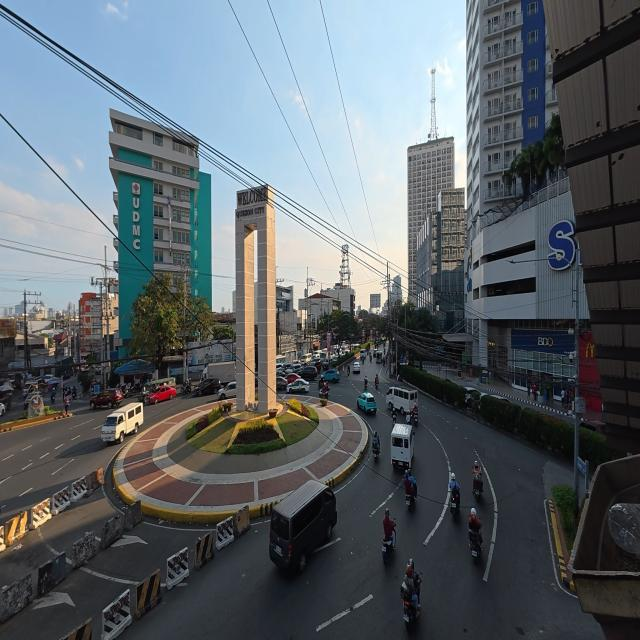Jeepneys: (140, 377, 175, 402)
car: (90, 389, 122, 409), (194, 378, 221, 396), (149, 386, 175, 403), (465, 387, 486, 407), (217, 380, 237, 400), (358, 392, 376, 414), (581, 420, 605, 434), (287, 378, 309, 393), (299, 366, 318, 381), (324, 369, 340, 382), (490, 394, 510, 403), (276, 376, 288, 390), (286, 373, 300, 384), (286, 364, 303, 373), (352, 361, 360, 373), (314, 360, 322, 372), (331, 354, 339, 364), (323, 360, 329, 370)
motorcycle: (401, 581, 416, 628), (469, 529, 481, 562), (382, 538, 394, 565), (472, 473, 482, 499), (450, 493, 459, 518), (406, 492, 416, 510), (182, 384, 192, 394), (373, 444, 379, 460), (412, 407, 417, 426), (319, 390, 328, 399), (72, 388, 77, 400), (392, 413, 396, 426), (319, 380, 323, 391), (375, 381, 378, 389), (365, 381, 367, 391), (370, 355, 372, 363)
trucks: (201, 362, 235, 386)
vans: (270, 480, 337, 571), (102, 402, 144, 443), (391, 424, 413, 467), (387, 387, 417, 414), (303, 353, 312, 363), (360, 349, 366, 359)
